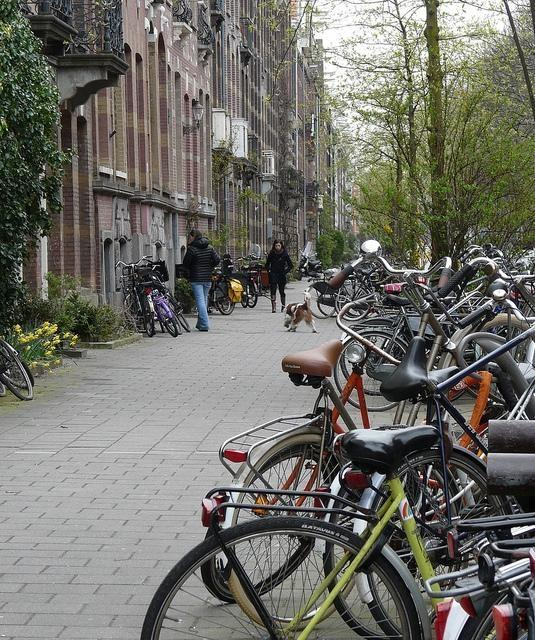bicycle: (139, 322, 535, 640), (384, 302, 535, 458), (222, 336, 356, 495), (362, 251, 506, 381), (442, 518, 535, 632), (358, 254, 496, 326), (138, 263, 192, 337), (114, 255, 156, 338), (0, 338, 34, 402), (456, 243, 515, 275), (207, 268, 237, 316), (344, 274, 378, 288)
